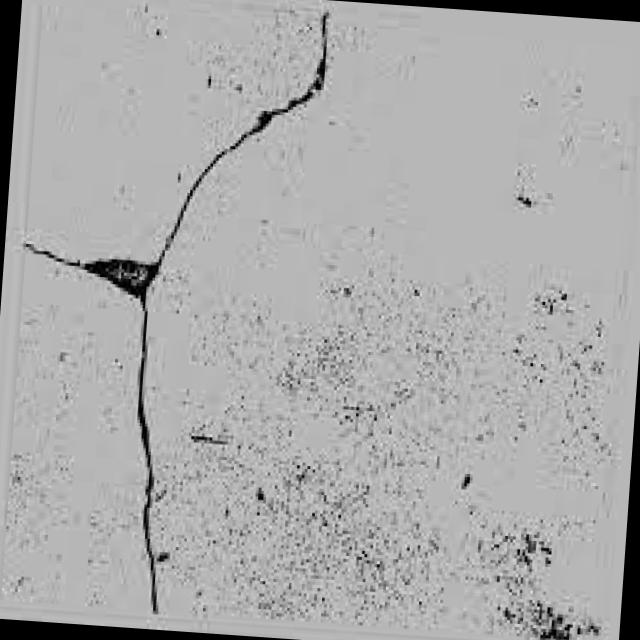crack: (154, 0, 334, 270), (116, 289, 180, 611), (19, 233, 162, 300)
